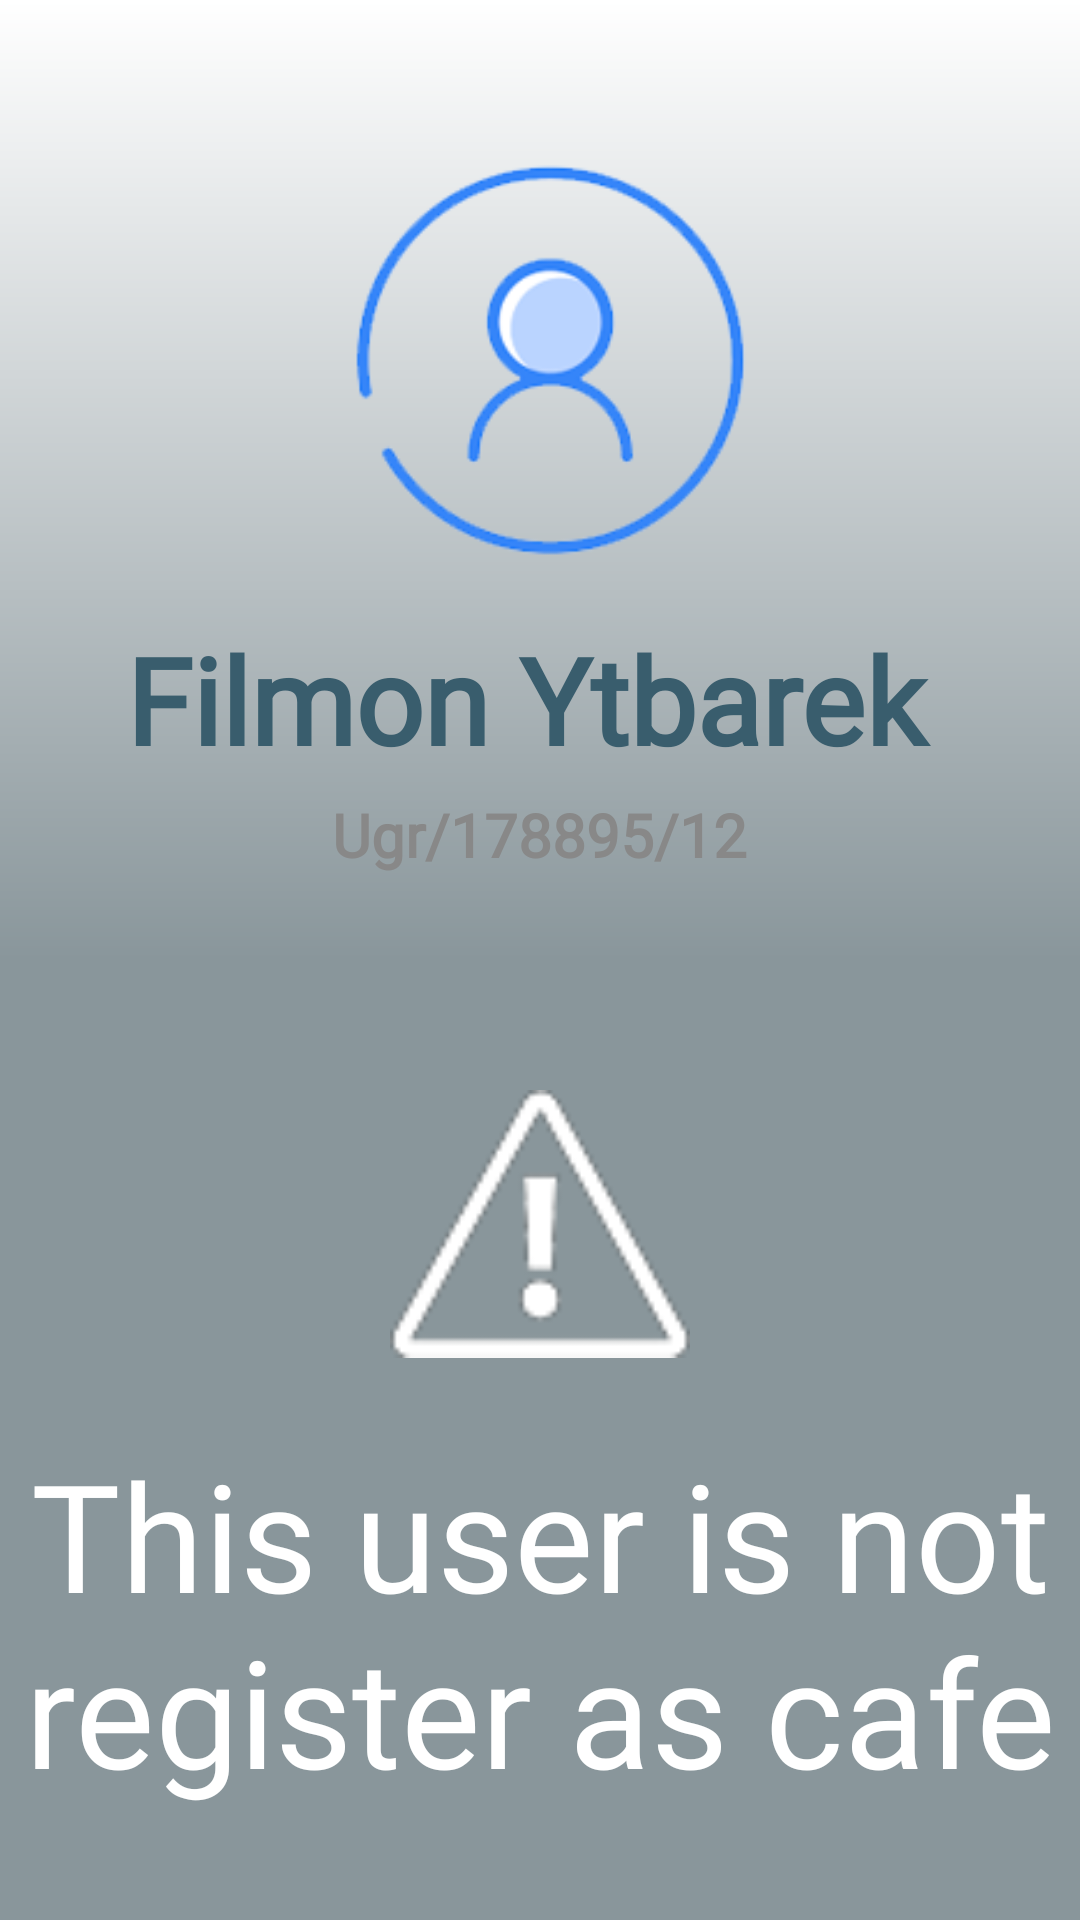

Where icons sit on this 1080px×1920px app screen, as bbox=[x1, y1, x2, y2]:
waring: bbox=[393, 1090, 690, 1358]
